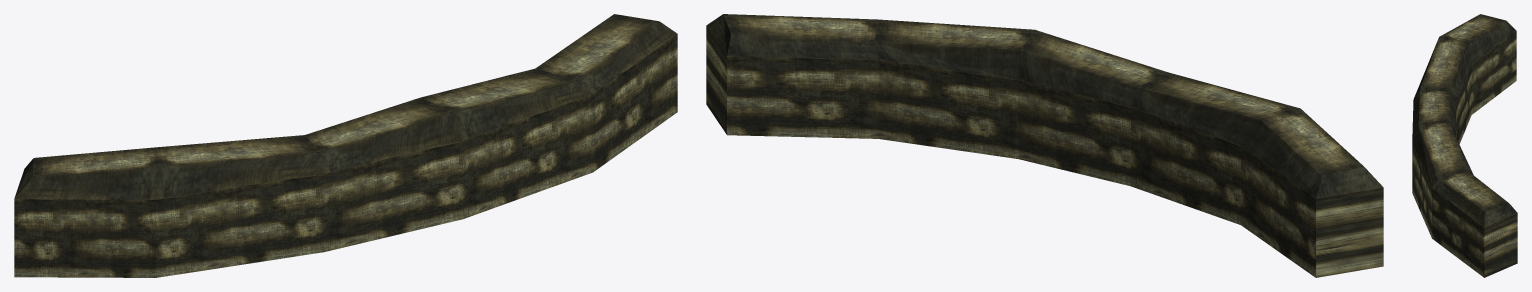
Rendered from sandbag.obj.
The picture shows the model from 3 angles, left to right: view 1: azimuth 30°, elevation 25°; view 2: azimuth 150°, elevation 25°; view 3: azimuth 270°, elevation 25°; orthographic projection. The views are drawn at different scales.
Visible parts, largest first — view 1: Sandbag; view 2: Sandbag; view 3: Sandbag.
Boxes of the visible parts, x1,y1,x2,y2 form: Sandbag: [14, 14, 677, 277]; Sandbag: [706, 14, 1383, 277]; Sandbag: [1412, 14, 1517, 277].
Bounding box in the file's own units: 25.21 × 3.8 × 5.38.
Materials: 1 (1 with a texture image).
